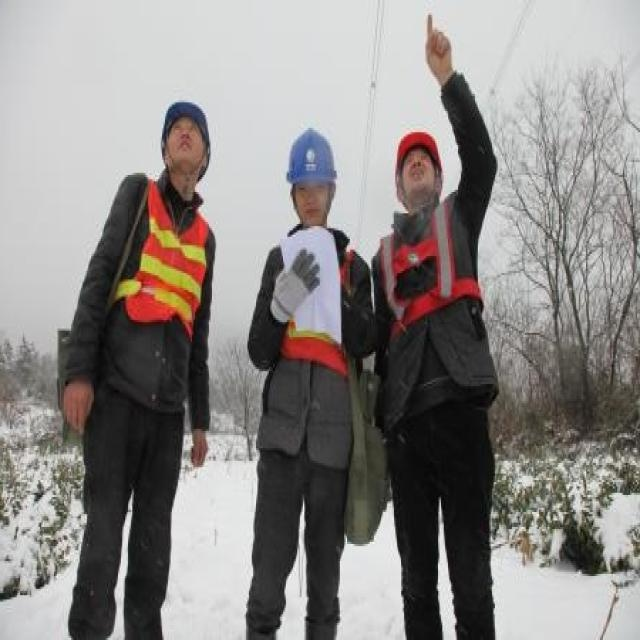Con_Chaleco: (117, 175, 211, 335)
